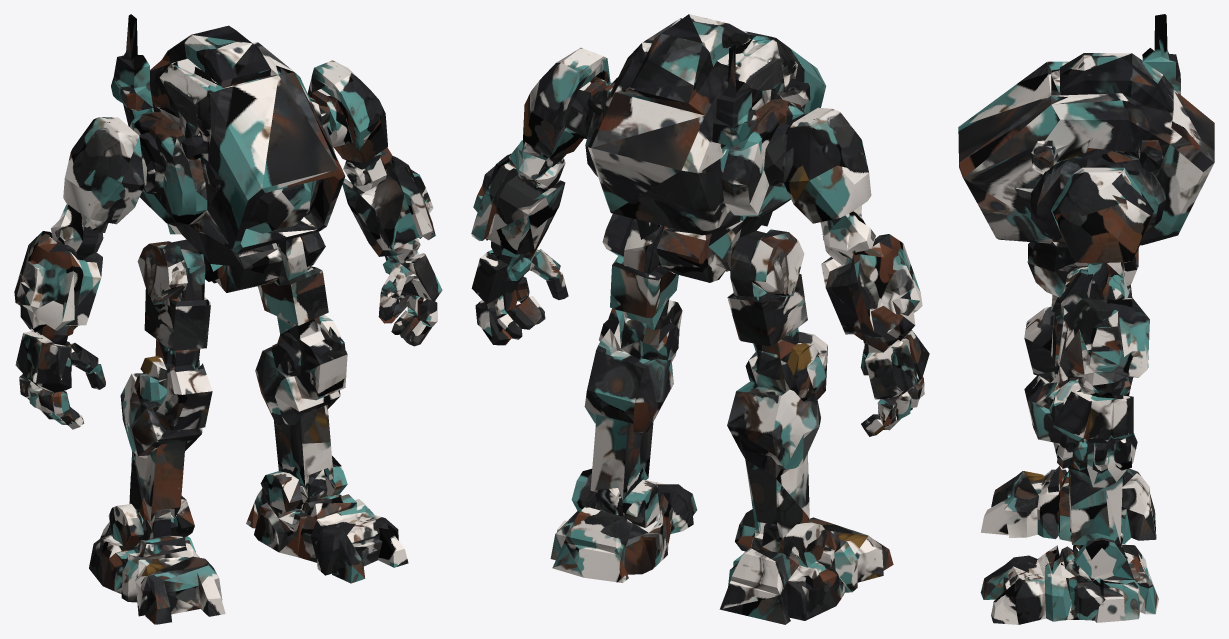
Rendered from chaser_v2_meshy_flat.fbx.
The picture shows the model from 3 angles, left to right: view 1: azimuth 30°, elevation 25°; view 2: azimuth 150°, elevation 25°; view 3: azimuth 270°, elevation 25°; orthographic projection. The views are drawn at different scales.
Visible parts, largest first — view 1: output_unwrapped; view 2: output_unwrapped; view 3: output_unwrapped.
Boxes of the visible parts, <box> form: output_unwrapped: <box>14,14,442,624</box>; output_unwrapped: <box>471,14,929,624</box>; output_unwrapped: <box>958,14,1214,624</box>.
Bounding box in the file's own units: 1.51 × 1.9 × 0.8516.
